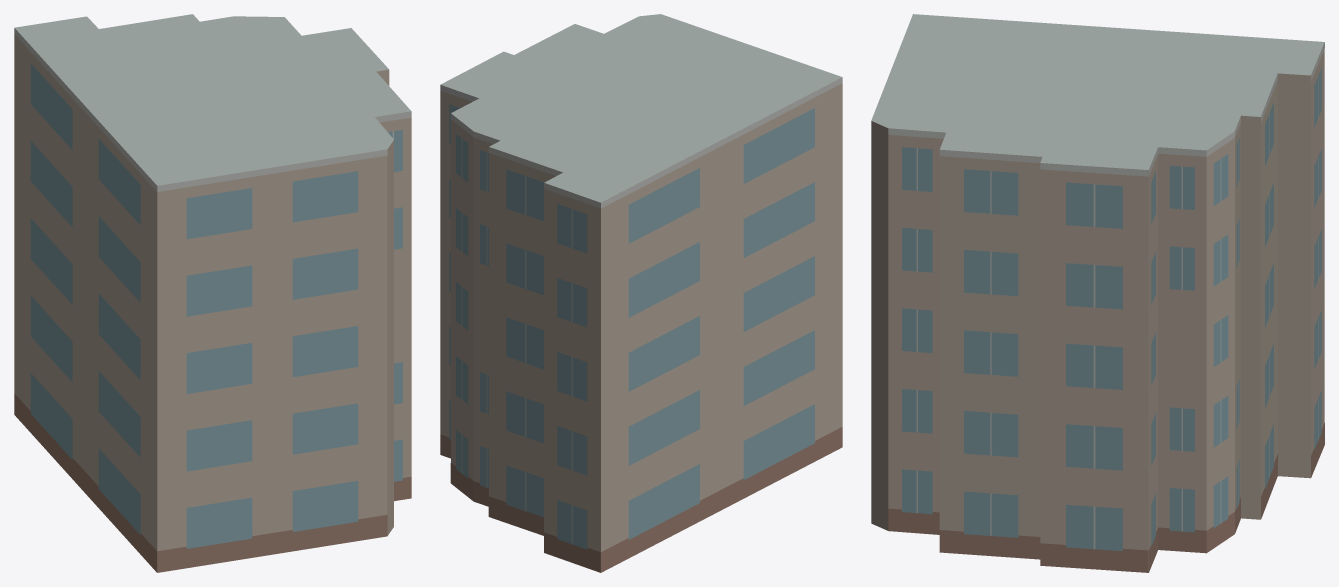
The model's file is survey-upis-32739831.glb.
3 views of the same model, side by side, from view 1: azimuth 30°, elevation 25°; view 2: azimuth 150°, elevation 25°; view 3: azimuth 270°, elevation 25° (orthographic). The views are drawn at different scales.
Visible parts, largest first — view 1: survey-upis-32739831.tmp; view 2: survey-upis-32739831.tmp; view 3: survey-upis-32739831.tmp.
Part boxes in pixels (x1,y1,x2,y2): survey-upis-32739831.tmp: [14, 14, 411, 572]; survey-upis-32739831.tmp: [440, 14, 842, 572]; survey-upis-32739831.tmp: [871, 14, 1324, 572].
Size of the model in its own units: 12.69 by 15.25 by 15.58.
